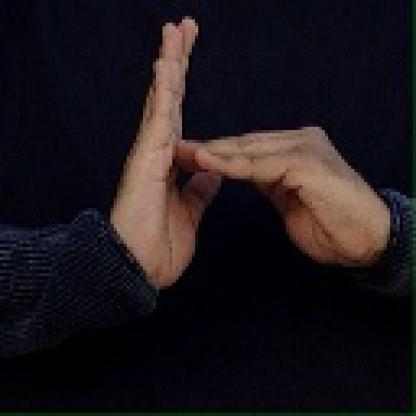Z: (116, 6, 366, 302)
